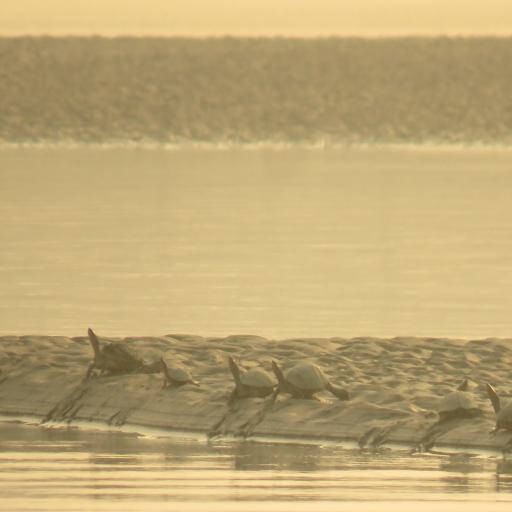turtle: (268, 356, 342, 408), (86, 328, 142, 376), (224, 350, 274, 398), (433, 374, 483, 422), (485, 378, 512, 434), (159, 356, 195, 388)
